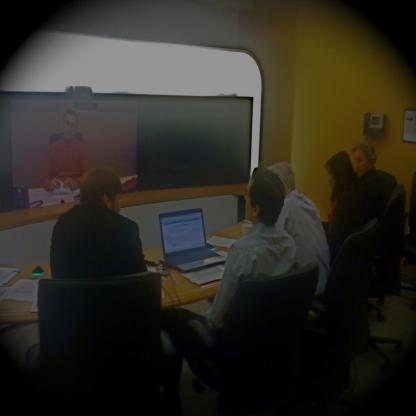board: (150, 198, 214, 280)
